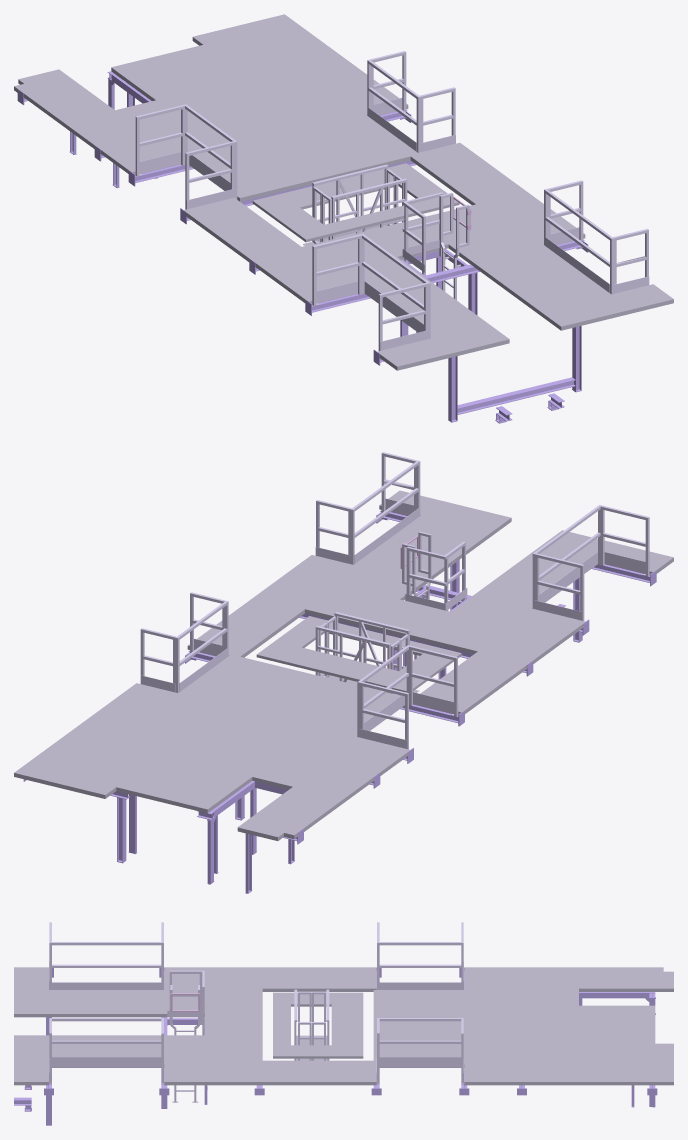
File: HS-CENTRAL-PIT-STRUCTURE-cut1.glb
3 views of the same model, one above another, from view 1: azimuth 30°, elevation 25°; view 2: azimuth 150°, elevation 25°; view 3: azimuth 270°, elevation 25° (orthographic). The views are drawn at different scales.
Parts seen in each view (by area): view 1: _00000261BAABEE20_IndexedFaceSet, _00000261BAABE250_IndexedFaceSet, _00000261A45EF460_IndexedFaceSet; view 2: _00000261BAABEE20_IndexedFaceSet, _00000261BAABE250_IndexedFaceSet, _00000261A45EF460_IndexedFaceSet; view 3: _00000261BAABEE20_IndexedFaceSet, _00000261BAABE250_IndexedFaceSet, _00000261A45EF460_IndexedFaceSet.
Boxes of the visible parts, <box> form: _00000261BAABEE20_IndexedFaceSet: <box>14,14,673,370</box>; _00000261BAABE250_IndexedFaceSet: <box>135,51,649,350</box>; _00000261A45EF460_IndexedFaceSet: <box>17,71,588,423</box>; _00000261BAABEE20_IndexedFaceSet: <box>14,490,673,840</box>; _00000261BAABE250_IndexedFaceSet: <box>140,452,649,749</box>; _00000261A45EF460_IndexedFaceSet: <box>23,510,656,893</box>; _00000261BAABEE20_IndexedFaceSet: <box>14,967,673,1085</box>; _00000261BAABE250_IndexedFaceSet: <box>49,922,463,1102</box>; _00000261A45EF460_IndexedFaceSet: <box>14,967,657,1125</box>.
Bounding box in the file's own units: 5.4 × 2.67 × 13.15.
